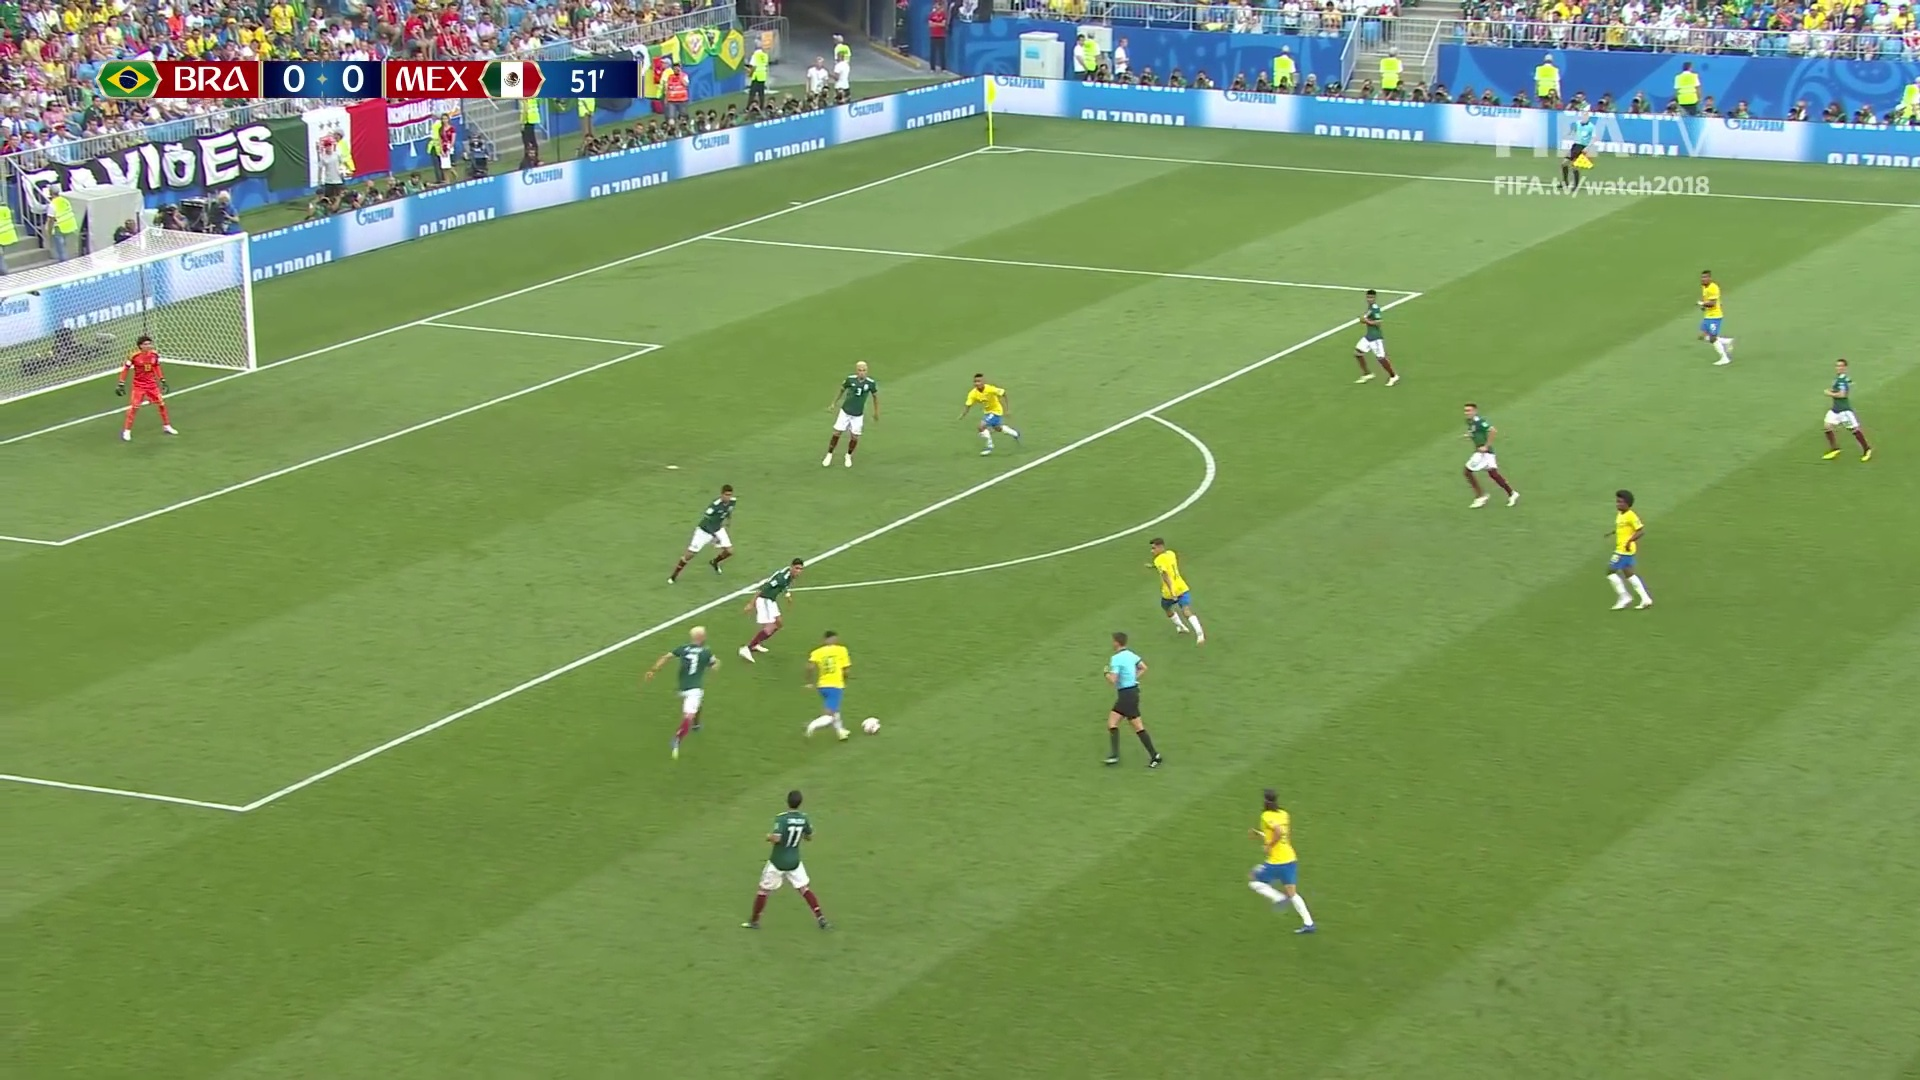ball: (863, 717, 879, 734)
person: (744, 787, 833, 933), (1245, 790, 1314, 933), (648, 626, 718, 759), (740, 558, 804, 666), (1146, 534, 1204, 647), (116, 336, 178, 440), (822, 359, 880, 470), (670, 484, 735, 581), (1462, 404, 1520, 507), (803, 629, 853, 745), (1819, 359, 1871, 461), (959, 373, 1021, 453), (1610, 489, 1650, 610), (1355, 290, 1398, 385), (1697, 270, 1735, 366)
